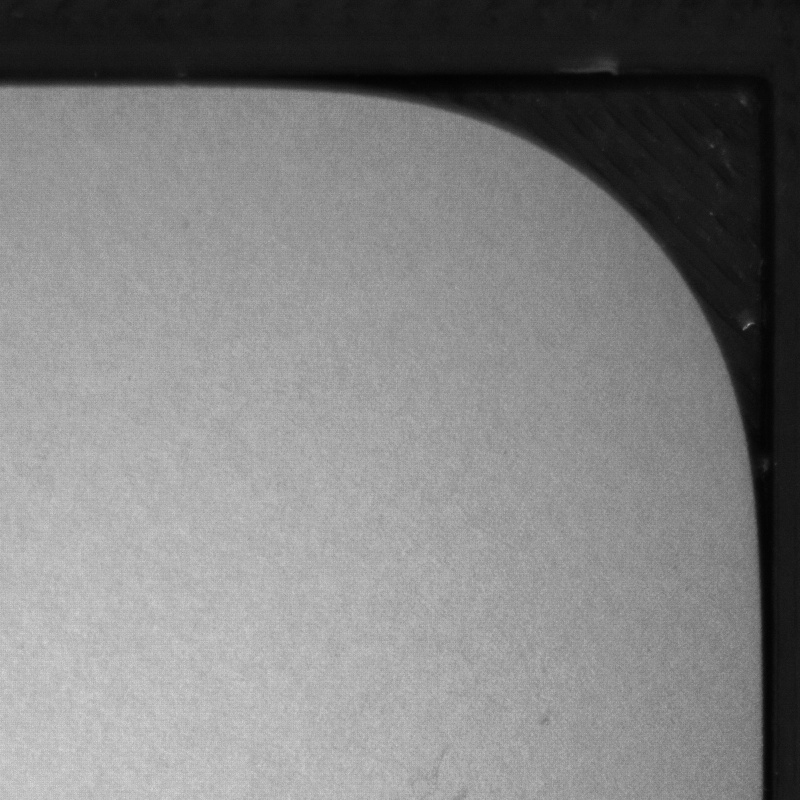defect: (535, 708, 558, 737), (448, 785, 472, 800)
